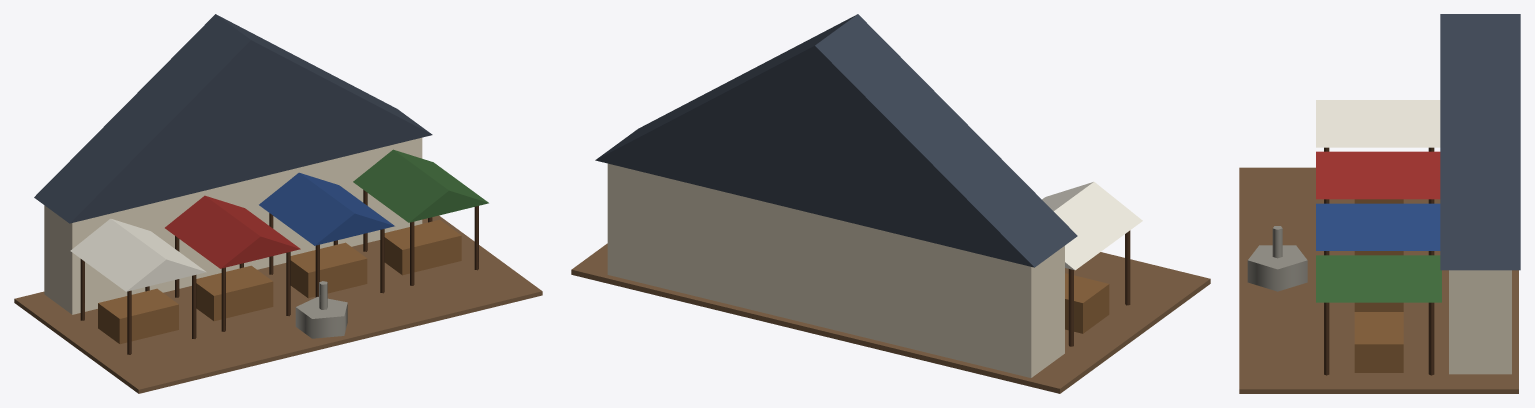
The model's file is bld_special_market_a03_lod2.glb.
The picture shows the model from 3 angles, left to right: view 1: azimuth 30°, elevation 25°; view 2: azimuth 150°, elevation 25°; view 3: azimuth 270°, elevation 25°; orthographic projection. The views are drawn at different scales.
Parts seen in each view (by area): view 1: body; view 2: body; view 3: body.
Part boxes in pixels (x1,y1,x2,y2): body: (14, 14, 542, 393); body: (571, 14, 1210, 393); body: (1239, 14, 1520, 393).
Bounding box in the file's own units: 15 × 8.49 × 8.05.
